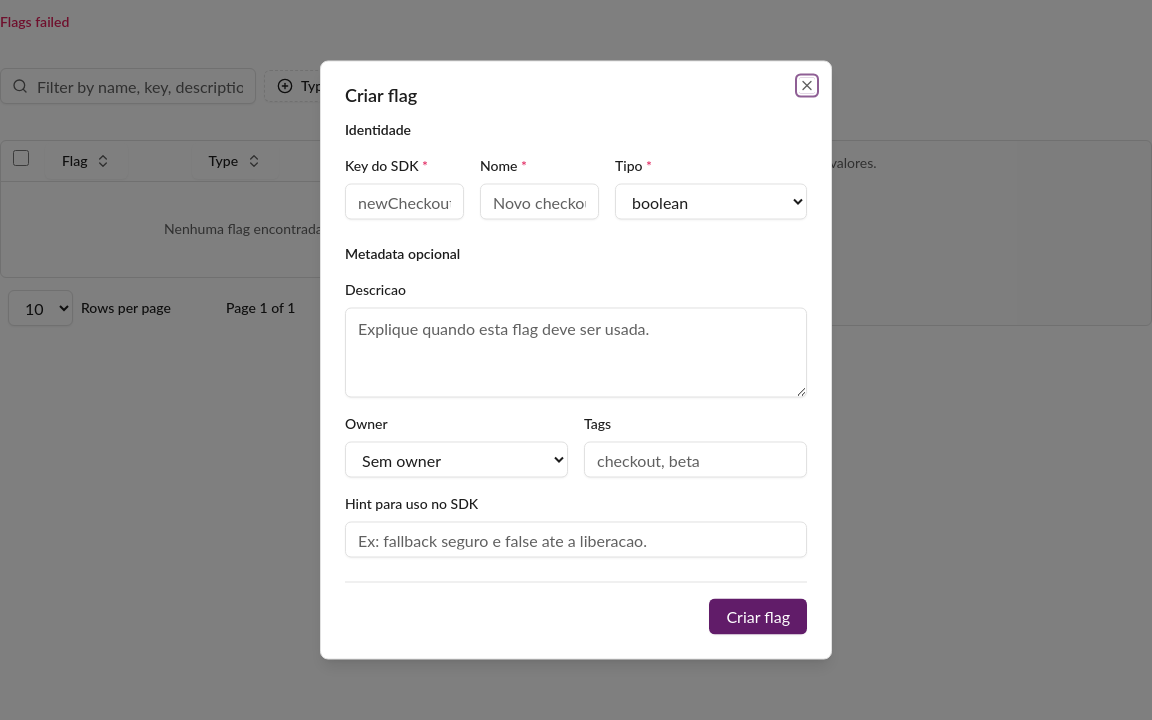
Scenario: Flags page integration › shows feature flag query and create errors
expect the text "Flags failed" is shown: met, box [0,13,69,30]
In the field labelled "Key do SDK *": (404,202) [345,184,464,220], type "newFlag"
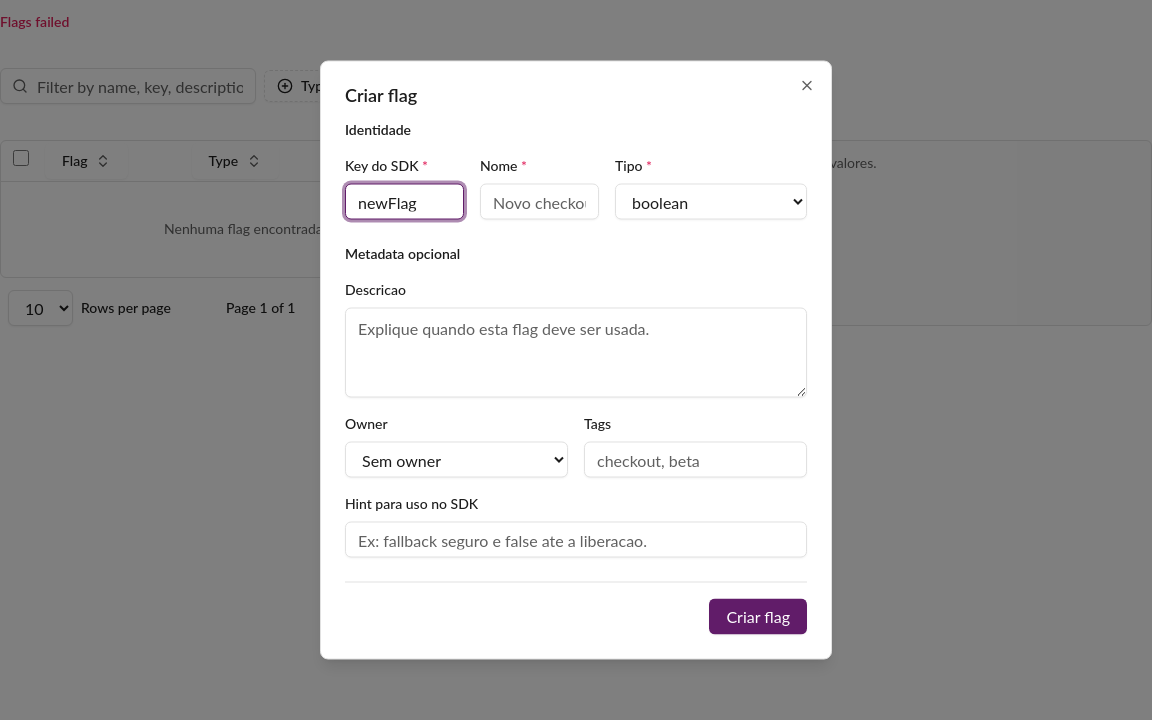
In the field labelled "Nome *": (540,202) [480,184,599,220], type "New flag"
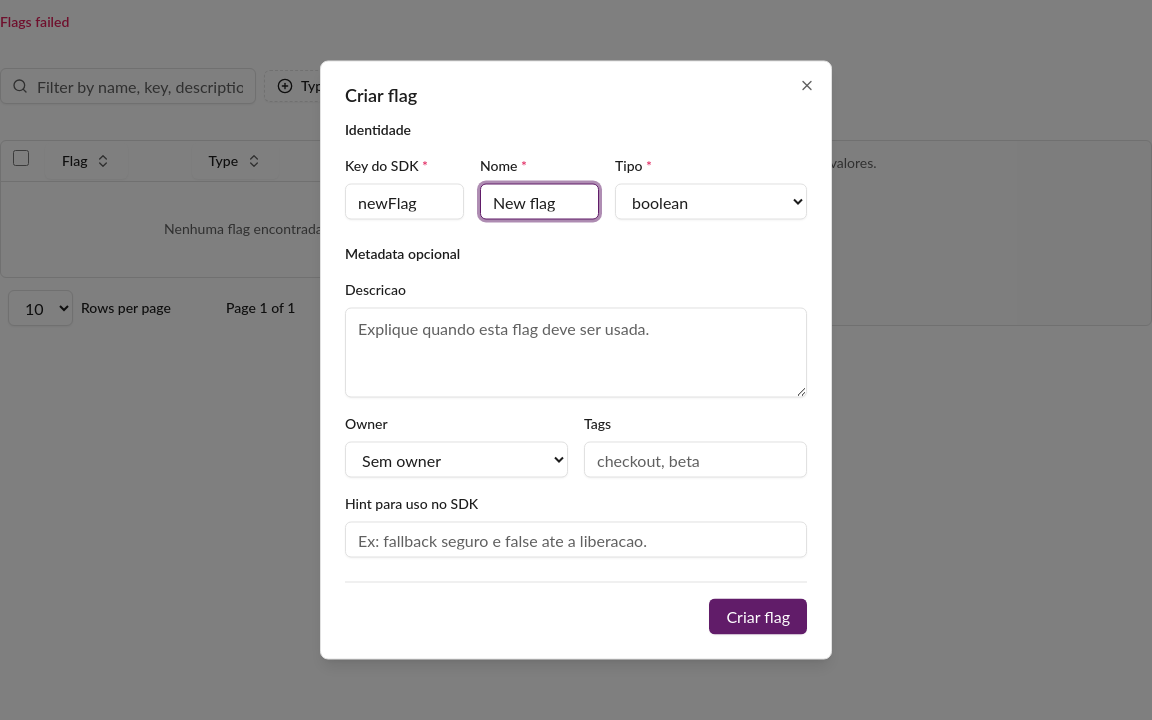
Click the button "Criar flag": (758,616) [710,598,807,634]
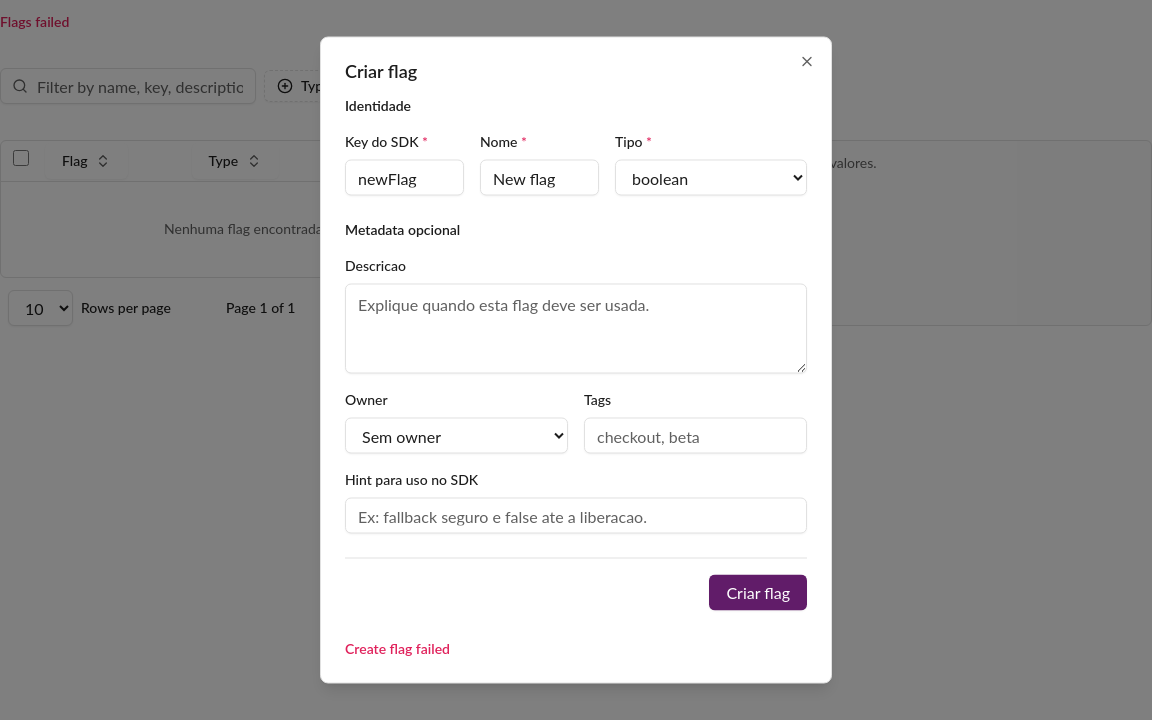
expect the text "Create flag failed" is shown: met, box [345,640,450,656]
